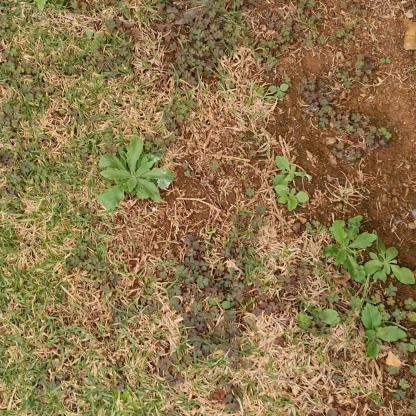Weeds: (99, 135, 177, 212), (322, 215, 378, 285), (364, 235, 415, 288), (362, 303, 408, 356), (271, 154, 312, 186), (273, 184, 310, 212), (298, 307, 341, 327), (269, 82, 289, 99)
